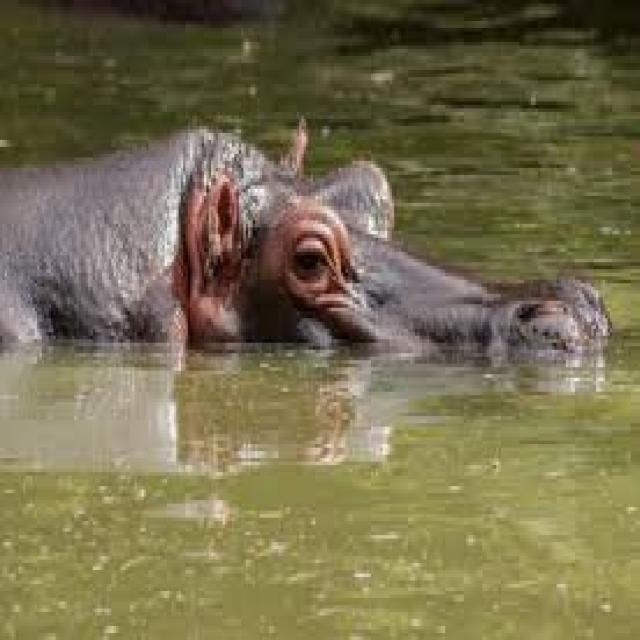Hippopotamus: (0, 130, 612, 378)
